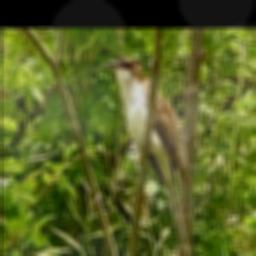Cuckoo: (106, 55, 190, 256)
